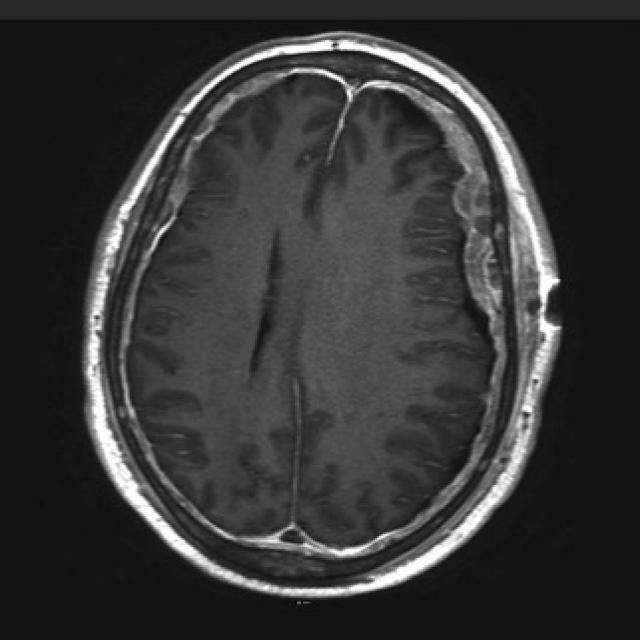No_Tumor: (85, 32, 560, 598)
